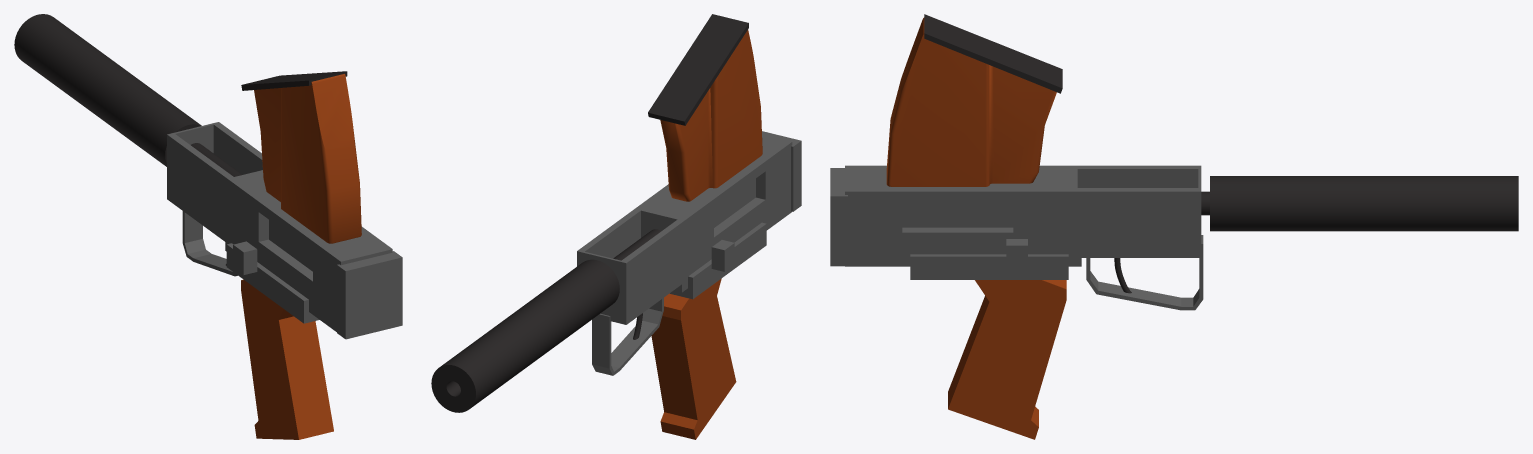
The picture shows the model from 3 angles, left to right: view 1: azimuth 30°, elevation 25°; view 2: azimuth 150°, elevation 25°; view 3: azimuth 270°, elevation 25°; orthographic projection. The views are drawn at different scales.
Parts seen in each view (by area): view 1: body, magazine, extension, grip, guard, lip, barrel_core; view 2: body, extension, magazine, grip, lip, guard, barrel_core; view 3: body, magazine, extension, grip, lip, guard.
Boxes of the visible parts, x1=… form: body: x1=167, y1=122, x2=402, y2=339; magazine: x1=254, y1=74, x2=361, y2=243; extension: x1=14, y1=14, x2=201, y2=166; grip: x1=241, y1=279, x2=333, y2=439; guard: x1=182, y1=211, x2=237, y2=276; lip: x1=241, y1=71, x2=347, y2=90; barrel_core: x1=191, y1=143, x2=242, y2=176; body: x1=577, y1=131, x2=801, y2=324; extension: x1=431, y1=259, x2=619, y2=412; magazine: x1=660, y1=30, x2=762, y2=201; grip: x1=651, y1=278, x2=736, y2=439; lip: x1=648, y1=14, x2=748, y2=125; guard: x1=592, y1=298, x2=663, y2=375; barrel_core: x1=613, y1=229, x2=661, y2=260; body: x1=830, y1=165, x2=1201, y2=279; magazine: x1=886, y1=17, x2=1056, y2=186; extension: x1=1210, y1=176, x2=1518, y2=231; grip: x1=948, y1=280, x2=1066, y2=439; lip: x1=924, y1=14, x2=1062, y2=93; guard: x1=1086, y1=235, x2=1203, y2=310.
Size of the model in its own units: 0.053 by 0.2273 by 0.348.
